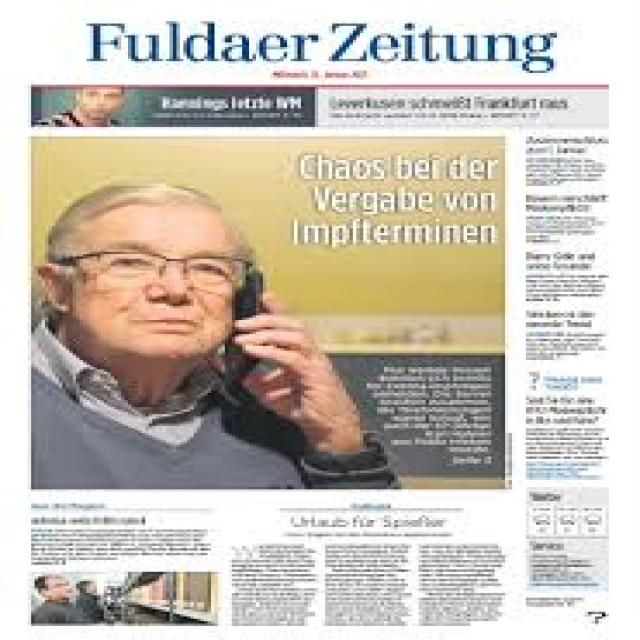paper: (6, 31, 634, 617)
